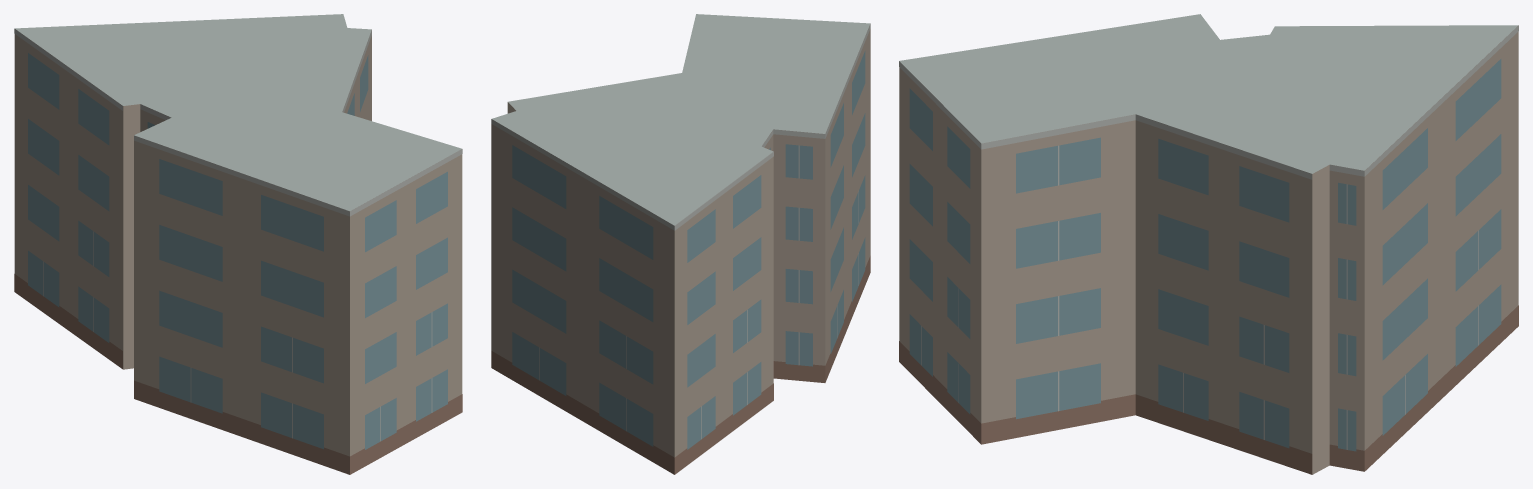
Rendered from survey-upis-32673892.glb.
The picture shows the model from 3 angles, left to right: view 1: azimuth 30°, elevation 25°; view 2: azimuth 150°, elevation 25°; view 3: azimuth 270°, elevation 25°; orthographic projection. The views are drawn at different scales.
Visible parts, largest first — view 1: survey-upis-32673892.tmp; view 2: survey-upis-32673892.tmp; view 3: survey-upis-32673892.tmp.
Part boxes in pixels (x1=…): survey-upis-32673892.tmp: x1=14, y1=14, x2=462, y2=474; survey-upis-32673892.tmp: x1=491, y1=14, x2=870, y2=474; survey-upis-32673892.tmp: x1=899, y1=14, x2=1518, y2=474.
Bounding box in the file's own units: 14.02 × 12.29 × 22.94.
